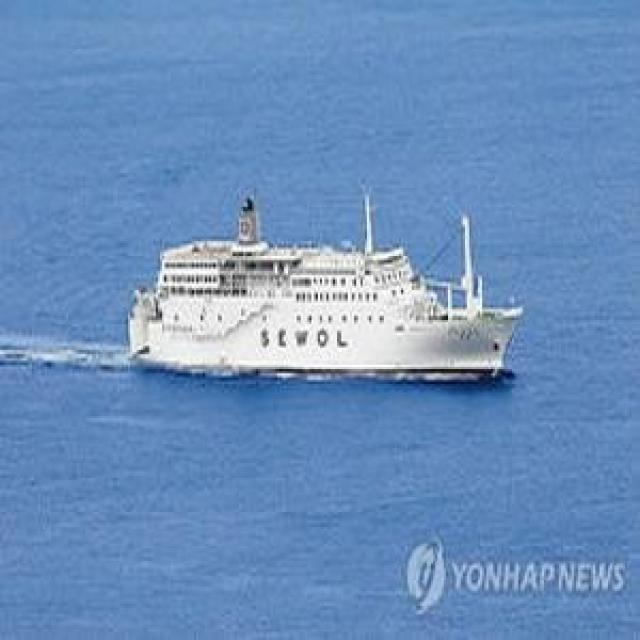passenger ship: (119, 200, 526, 382)
